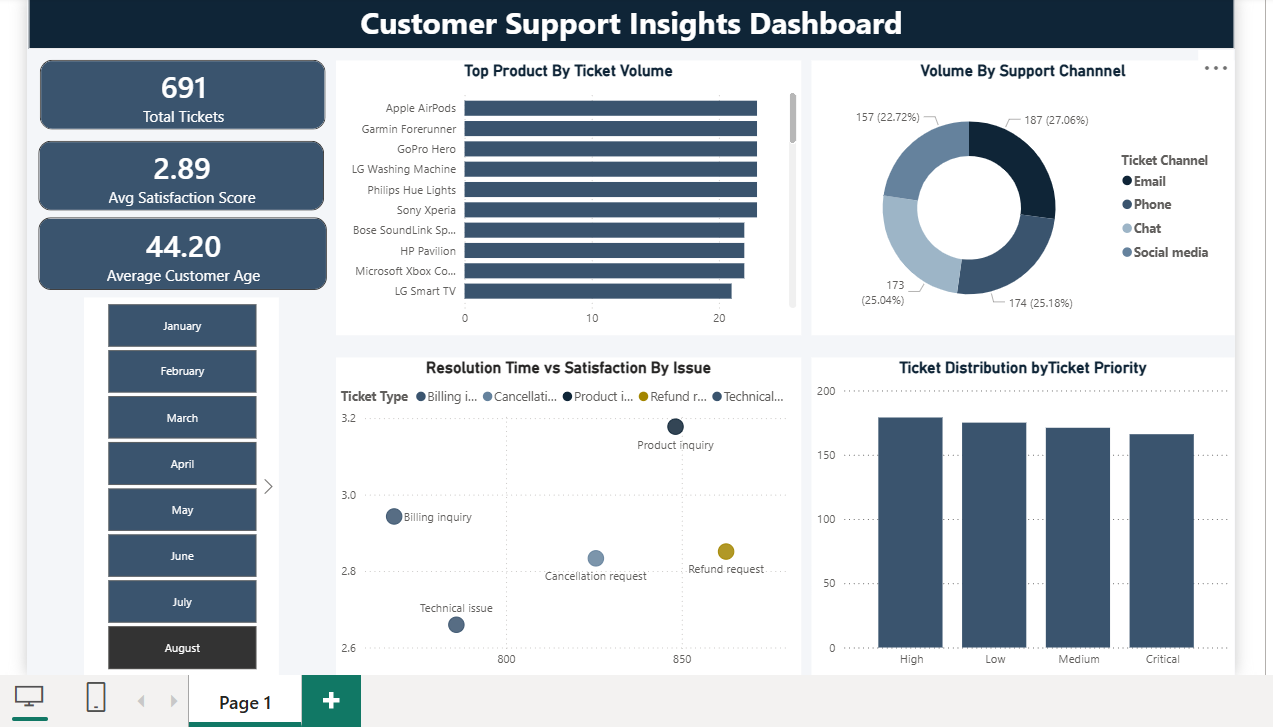

What the dashboard file says about the page in this screenshot:
{"tool":"powerbi","page":{"name":"Page 1","canvas":[1280,720],"ordinal":0},"visuals":[{"type":"cardVisual","fields":{"Data":["CountNonNull(customer_support_tickets.Ticket ID)"]},"box":[1.6,55.7,327.7,98.6],"z":1000},{"type":"cardVisual","fields":{"Data":["Avg(customer_support_tickets.Customer Satisfaction Rating)"]},"box":[0,141.6,327.7,98.6],"z":2000},{"type":"cardVisual","fields":{"Data":["Avg(customer_support_tickets.Customer Age)"]},"box":[0,222.7,330.8,101.8],"z":3000},{"type":"clusteredColumnChart","title":"Ticket Distribution byTicket Priority","fields":{"Category":["customer_support_tickets.Ticket Priority"],"Y":["CountNonNull(customer_support_tickets.Ticket ID)"]},"box":[831.9,383.3,448.6,337.2],"z":4000},{"type":"donutChart","title":"Volume By Support Channnel","fields":{"Category":["customer_support_tickets.Ticket Channel"],"Y":["CountNonNull(customer_support_tickets.Ticket ID)"]},"box":[831.9,68.4,448.6,291.1],"z":5000},{"type":"barChart","title":"Top Product By Ticket Volume","fields":{"Category":["customer_support_tickets.Product Purchased"],"Y":["CountNonNull(customer_support_tickets.Ticket ID)"]},"box":[327.7,68.4,493.1,291.1],"z":7000},{"type":"textbox","box":[1.6,0,1278.9,55.7],"z":9001},{"type":"scatterChart","title":"Resolution Time vs Satisfaction By Issue","fields":{"Series":["customer_support_tickets.Ticket Type"],"X":["customer_support_tickets.Avg days Resolve"],"Y":["Avg(customer_support_tickets.Customer Satisfaction Rating)"]},"box":[327.7,383.3,493.1,337.2],"z":9002},{"type":"slicer","fields":{"Values":["customer_support_tickets.Date of Purchase.Variation.Date Hierarchy.Month"]},"box":[60.4,319.7,206.8,400.8],"z":9003}]}

Visuals, with their boxes on the page's 1280x720 design canvas (x1, y1, x2, y2). These are canvas units, not pixel positions in the 1273x727 screenshot, which may show the page scaled, cropped or inside an application window:
cardVisual - CountNonNull(customer_support_tickets.Ticket ID): 2,56,329,154
cardVisual - Avg(customer_support_tickets.Customer Satisfaction Rating): 0,142,328,240
cardVisual - Avg(customer_support_tickets.Customer Age): 0,223,331,324
"Ticket Distribution byTicket Priority" clusteredColumnChart: 832,383,1280,720
"Volume By Support Channnel" donutChart: 832,68,1280,360
"Top Product By Ticket Volume" barChart: 328,68,821,360
textbox: 2,0,1280,56
"Resolution Time vs Satisfaction By Issue" scatterChart: 328,383,821,720
slicer - customer_support_tickets.Date of Purchase.Variation.Date Hierarchy.Month: 60,320,267,720
